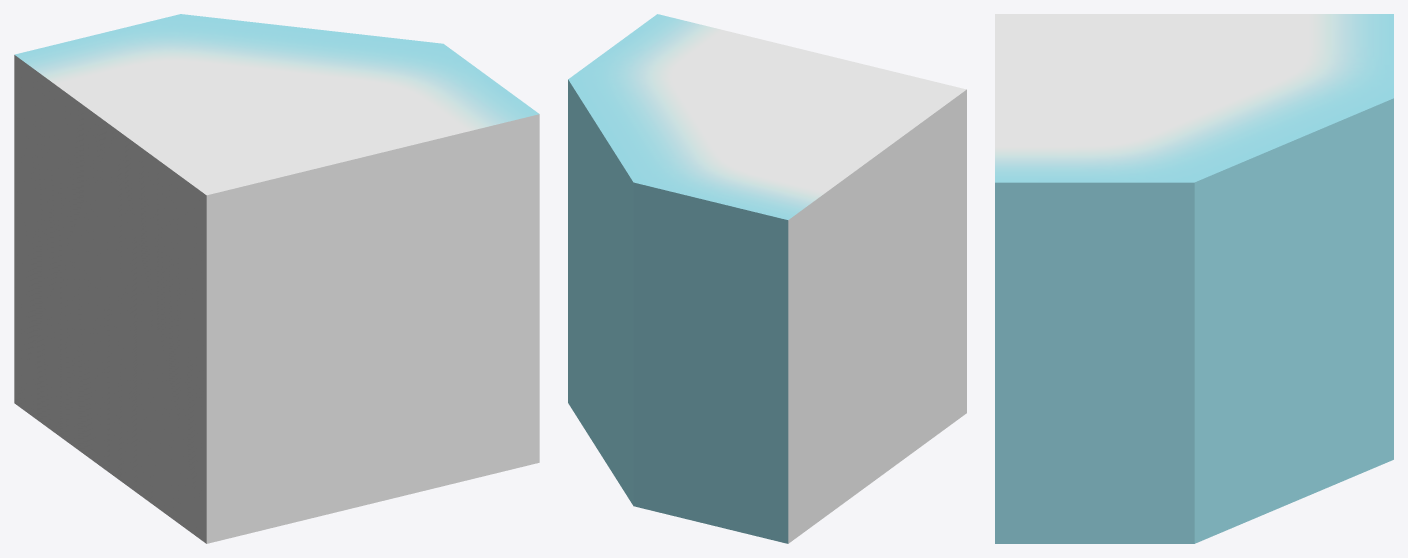
Rendered from icefloor_corner2_R.fbx.
3 views of the same model, side by side, from view 1: azimuth 30°, elevation 25°; view 2: azimuth 150°, elevation 25°; view 3: azimuth 270°, elevation 25° (orthographic). The views are drawn at different scales.
Parts seen in each view (by area): view 1: icefloor_corner2_R; view 2: icefloor_corner2_R; view 3: icefloor_corner2_R.
Boxes of the visible parts, left/top/right/bottom form: icefloor_corner2_R: left=14, top=14, right=539, bottom=543; icefloor_corner2_R: left=568, top=14, right=966, bottom=543; icefloor_corner2_R: left=995, top=14, right=1393, bottom=543.
Size of the model in its own units: 100 by 100 by 100.
